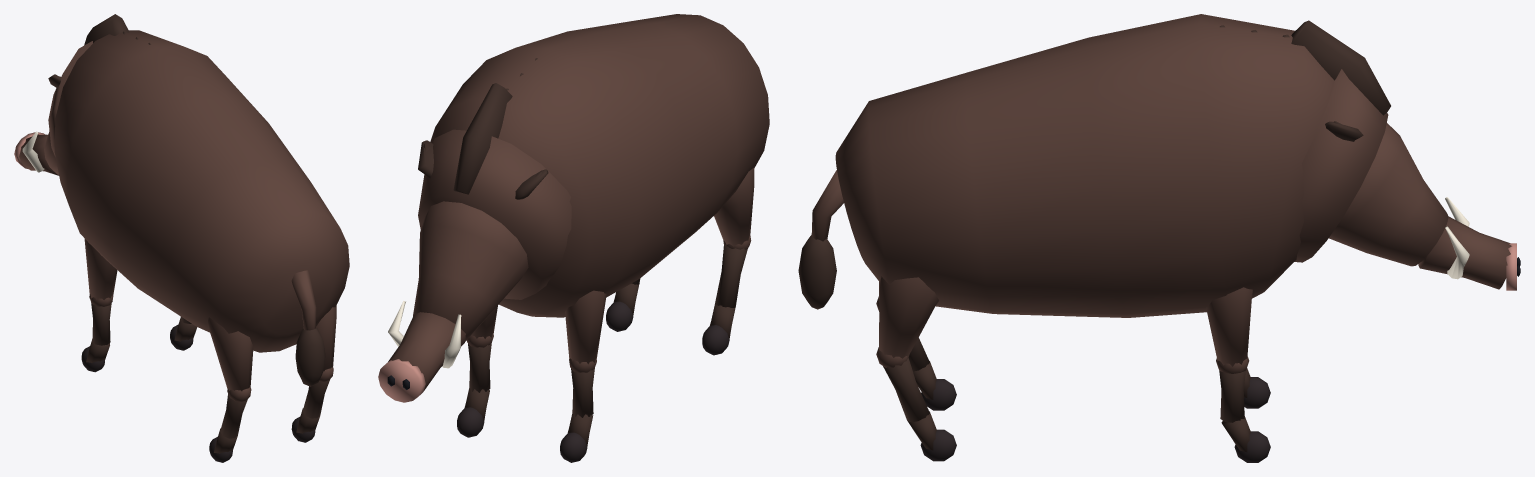
Rendered from beast_pig.glb.
The picture shows the model from 3 angles, left to right: view 1: azimuth 30°, elevation 25°; view 2: azimuth 150°, elevation 25°; view 3: azimuth 270°, elevation 25°; orthographic projection. The views are drawn at different scales.
Parts seen in each view (by area): view 1: body, tail, leg_br, head, leg_fr, shin_fr, shin_br, shin_bl, leg_bl, neck, shin_fl; view 2: body, head, neck, leg_fr, shin_br, shin_fr, shin_fl, leg_br, shin_bl, leg_fl, ear_l, ear_r; view 3: body, head, neck, leg_bl, tail, leg_fl, shin_bl, shin_fl, shin_br, shin_fr.
Boxes of the visible parts, left/top/right/bottom form: body: left=54, top=30, right=349, bottom=352; tail: left=291, top=270, right=325, bottom=386; leg_br: left=207, top=317, right=253, bottom=402; head: left=14, top=14, right=129, bottom=175; leg_fr: left=84, top=239, right=117, bottom=306; shin_fr: left=81, top=302, right=111, bottom=372; shin_br: left=209, top=394, right=247, bottom=462; shin_bl: left=291, top=379, right=329, bottom=442; leg_bl: left=316, top=305, right=336, bottom=382; neck: left=48, top=41, right=92, bottom=156; shin_fl: left=170, top=317, right=197, bottom=350; body: left=430, top=14, right=769, bottom=317; head: left=378, top=83, right=528, bottom=402; neck: left=418, top=129, right=571, bottom=299; leg_fr: left=565, top=290, right=606, bottom=372; shin_br: left=702, top=245, right=747, bottom=355; shin_fr: left=560, top=367, right=594, bottom=462; shin_fl: left=457, top=342, right=491, bottom=437; leg_br: left=714, top=167, right=754, bottom=249; shin_bl: left=606, top=278, right=640, bottom=331; leg_fl: left=466, top=305, right=497, bottom=347; ear_l: left=418, top=140, right=433, bottom=177; ear_r: left=515, top=169, right=548, bottom=199; body: left=835, top=14, right=1334, bottom=317; head: left=1291, top=20, right=1520, bottom=290; neck: left=1294, top=69, right=1388, bottom=262; leg_bl: left=876, top=276, right=938, bottom=367; tail: left=798, top=170, right=843, bottom=309; leg_fl: left=1206, top=287, right=1252, bottom=373; shin_bl: left=883, top=357, right=956, bottom=461; shin_fl: left=1219, top=370, right=1270, bottom=462; shin_br: left=908, top=338, right=956, bottom=410; shin_fr: left=1243, top=368, right=1270, bottom=408.
Size of the model in its own units: 0.58 by 1.07 by 1.69.
